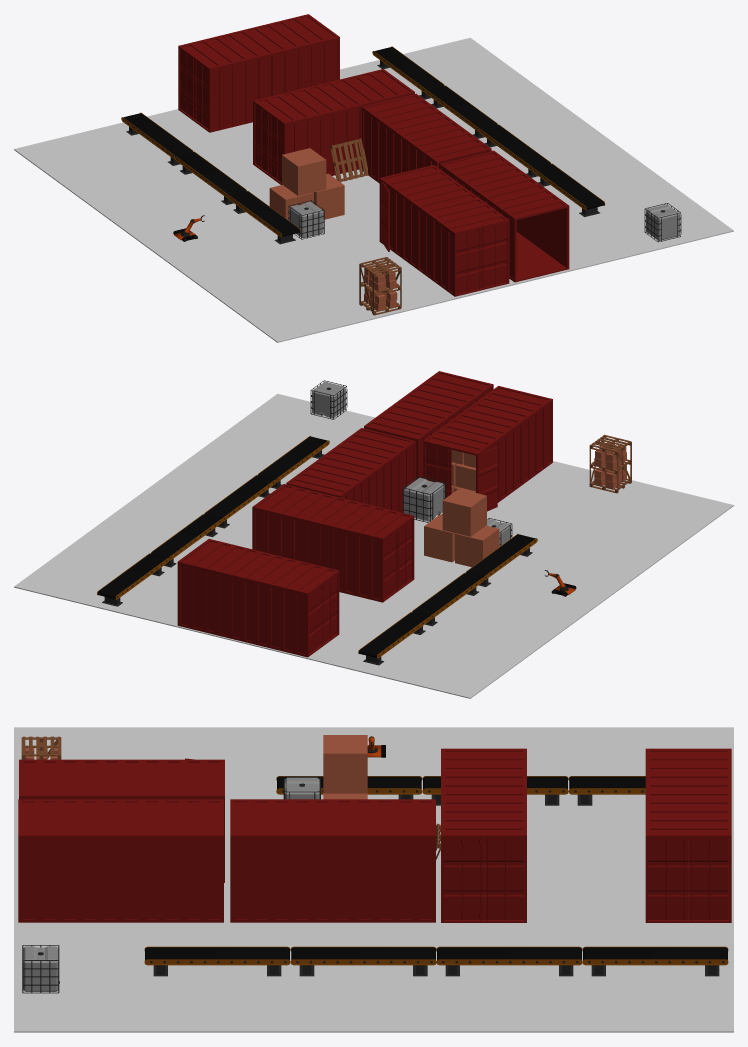
The model's file is level_01_static.obj.
3 views of the same model, one above another, from view 1: azimuth 30°, elevation 25°; view 2: azimuth 150°, elevation 25°; view 3: azimuth 270°, elevation 25° (orthographic). The views are drawn at different scales.
Visible parts, largest first — view 1: Cube_Cube.001, Container_02_2_Mesh.004, Container_02_2_Mesh.021, Container_02_2_Mesh.002, Container_02_2_Mesh.003, Container_02_2_Mesh.001, Cube.001_Cube.006_Cube.001_Cube.007, Cube.001_Cube.007_Cube.001_Cube.008, 01_1_Mesh.025, 01_2_Mesh.024, pallet_04_Mesh.005, Pallet_01_Mesh.008 (+14 smaller); view 2: Cube_Cube.001, Container_02_2_Mesh.004, Container_02_2_Mesh.003, Container_02_2_Mesh.021, Container_02_2_Mesh.001, Container_02_2_Mesh.002, Cube.001_Cube.006_Cube.001_Cube.007, Cube.001_Cube.007_Cube.001_Cube.008, Container_01.001_Mesh.001, pallet_04_Mesh.005, 02_1_Mesh.023, 02_2_Mesh.022 (+14 smaller); view 3: Cube_Cube.001, Container_02_2_Mesh.001, Container_02_2_Mesh.002, Container_02_2_Mesh.004, Container_02_2_Mesh.003, Container_02_2_Mesh.021, 02_1_Mesh.002, 02_2_Mesh.001, 02_2_Mesh.002, 02_1_Mesh.001, Cube.001_Cube.007_Cube.001_Cube.008, PaletArrow.010_Cube.004_PaletArrow.010_Cube.010 (+16 smaller).
Boxes of the visible parts, x1=… form: Cube_Cube.001: x1=14, y1=37, x2=733, y2=342; Container_02_2_Mesh.004: x1=178, y1=14, x2=339, y2=132; Container_02_2_Mesh.021: x1=379, y1=165, x2=509, y2=296; Container_02_2_Mesh.002: x1=439, y1=150, x2=569, y2=282; Container_02_2_Mesh.003: x1=253, y1=69, x2=414, y2=184; Container_02_2_Mesh.001: x1=361, y1=93, x2=491, y2=183; Cube.001_Cube.006_Cube.001_Cube.007: x1=269, y1=173, x2=344, y2=220; Cube.001_Cube.007_Cube.001_Cube.008: x1=282, y1=148, x2=326, y2=195; 01_1_Mesh.025: x1=481, y1=222, x2=506, y2=287; 01_2_Mesh.024: x1=456, y1=228, x2=481, y2=293; pallet_04_Mesh.005: x1=359, y1=257, x2=401, y2=315; Pallet_01_Mesh.008: x1=330, y1=138, x2=368, y2=182; Cube_Cube.001: x1=14, y1=393, x2=733, y2=698; Container_02_2_Mesh.004: x1=177, y1=539, x2=339, y2=657; Container_02_2_Mesh.003: x1=252, y1=484, x2=414, y2=602; Container_02_2_Mesh.021: x1=423, y1=386, x2=552, y2=502; Container_02_2_Mesh.001: x1=286, y1=428, x2=415, y2=512; Container_02_2_Mesh.002: x1=364, y1=371, x2=493, y2=479; Cube.001_Cube.006_Cube.001_Cube.007: x1=424, y1=514, x2=499, y2=567; Cube.001_Cube.007_Cube.001_Cube.008: x1=442, y1=489, x2=486, y2=536; Container_01.001_Mesh.001: x1=404, y1=477, x2=444, y2=521; pallet_04_Mesh.005: x1=589, y1=434, x2=631, y2=493; 02_1_Mesh.023: x1=425, y1=443, x2=451, y2=497; 02_2_Mesh.022: x1=479, y1=446, x2=497, y2=511; Cube_Cube.001: x1=14, y1=727, x2=733, y2=1032; Container_02_2_Mesh.001: x1=230, y1=799, x2=435, y2=922; Container_02_2_Mesh.002: x1=18, y1=799, x2=223, y2=922; Container_02_2_Mesh.004: x1=645, y1=748, x2=731, y2=922; Container_02_2_Mesh.003: x1=441, y1=748, x2=526, y2=922; Container_02_2_Mesh.021: x1=19, y1=759, x2=224, y2=882; 02_1_Mesh.002: x1=648, y1=838, x2=688, y2=920; 02_2_Mesh.001: x1=484, y1=838, x2=523, y2=920; 02_2_Mesh.002: x1=689, y1=838, x2=728, y2=920; 02_1_Mesh.001: x1=444, y1=838, x2=483, y2=920; Cube.001_Cube.007_Cube.001_Cube.008: x1=323, y1=735, x2=367, y2=793; PaletArrow.010_Cube.004_PaletArrow.010_Cube.010: x1=583, y1=947, x2=727, y2=959.
Bounding box in the file's own units: 20 × 2.75 × 20.
